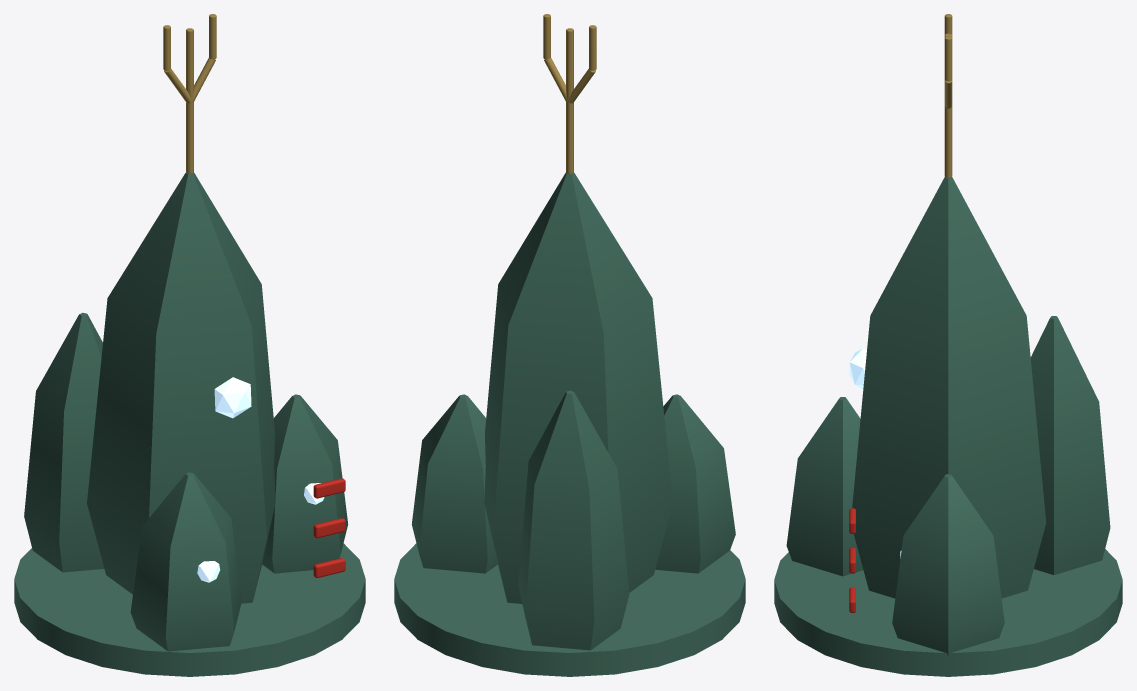
3 renders of one model, left to right at view 1: azimuth 30°, elevation 25°; view 2: azimuth 150°, elevation 25°; view 3: azimuth 270°, elevation 25°, orthographic.
Parts seen in each view (by area): view 1: Faceted crystal tower, Foundation drum, Faceted crystal tower.002, Faceted crystal tower.003, Faceted crystal tower.001, Central luminous node, Aerial stem; view 2: Faceted crystal tower, Foundation drum, Faceted crystal tower.002, Faceted crystal tower.001, Faceted crystal tower.003, Aerial stem; view 3: Faceted crystal tower, Foundation drum, Faceted crystal tower.002, Faceted crystal tower.001, Faceted crystal tower.003, Aerial stem, Central luminous node.
Boxes of the visible parts, left/top/right/bottom form: Faceted crystal tower: left=87, top=172, right=275, bottom=603; Foundation drum: left=14, top=543, right=365, bottom=676; Faceted crystal tower.002: left=24, top=312, right=104, bottom=572; Faceted crystal tower.003: left=130, top=472, right=241, bottom=651; Faceted crystal tower.001: left=262, top=394, right=348, bottom=573; Central luminous node: left=214, top=377, right=251, bottom=418; Aerial stem: left=186, top=28, right=193, bottom=173; Faceted crystal tower: left=484, top=172, right=672, bottom=603; Foundation drum: left=394, top=543, right=745, bottom=676; Faceted crystal tower.002: left=518, top=390, right=629, bottom=650; Faceted crystal tower.001: left=411, top=394, right=497, bottom=573; Faceted crystal tower.003: left=655, top=394, right=735, bottom=573; Aerial stem: left=566, top=28, right=573, bottom=173; Faceted crystal tower: left=852, top=177, right=1046, bottom=598; Foundation drum: left=774, top=549, right=1122, bottom=676; Faceted crystal tower.002: left=1030, top=316, right=1110, bottom=574; Faceted crystal tower.001: left=892, top=474, right=1004, bottom=655; Faceted crystal tower.003: left=786, top=397, right=863, bottom=576; Aerial stem: left=944, top=33, right=952, bottom=178; Central luminous node: left=849, top=348, right=866, bottom=388.
Bounding box in the file's own units: 2.04 × 3.65 × 2.
